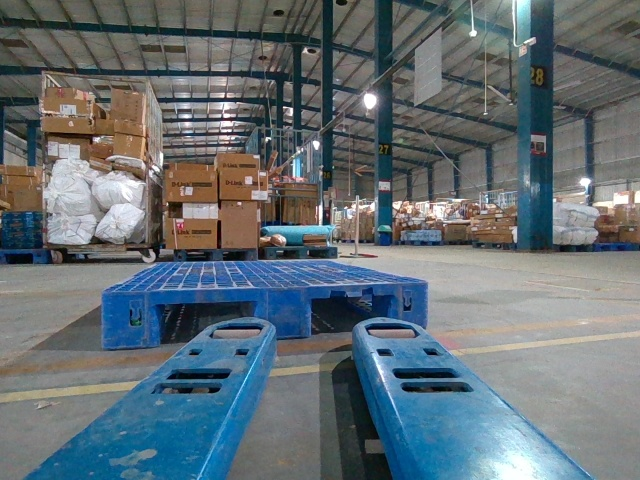block: (102, 289, 161, 348), (253, 289, 315, 338), (394, 281, 431, 329)
front: (103, 282, 429, 349)
hole pallet: (155, 298, 259, 347), (311, 291, 397, 338)
